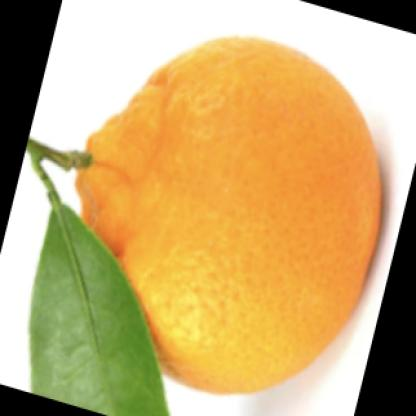fresh: (72, 35, 384, 397)
